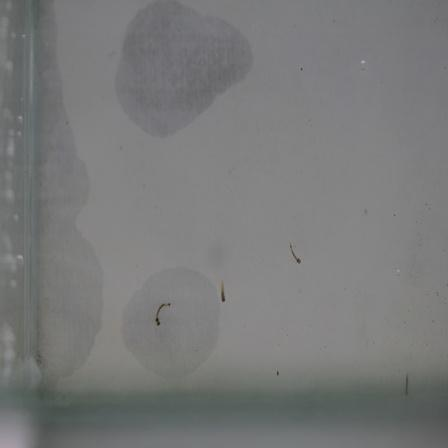Jentik-Nyamuk: (151, 298, 177, 329), (286, 237, 306, 269), (216, 276, 230, 305)
